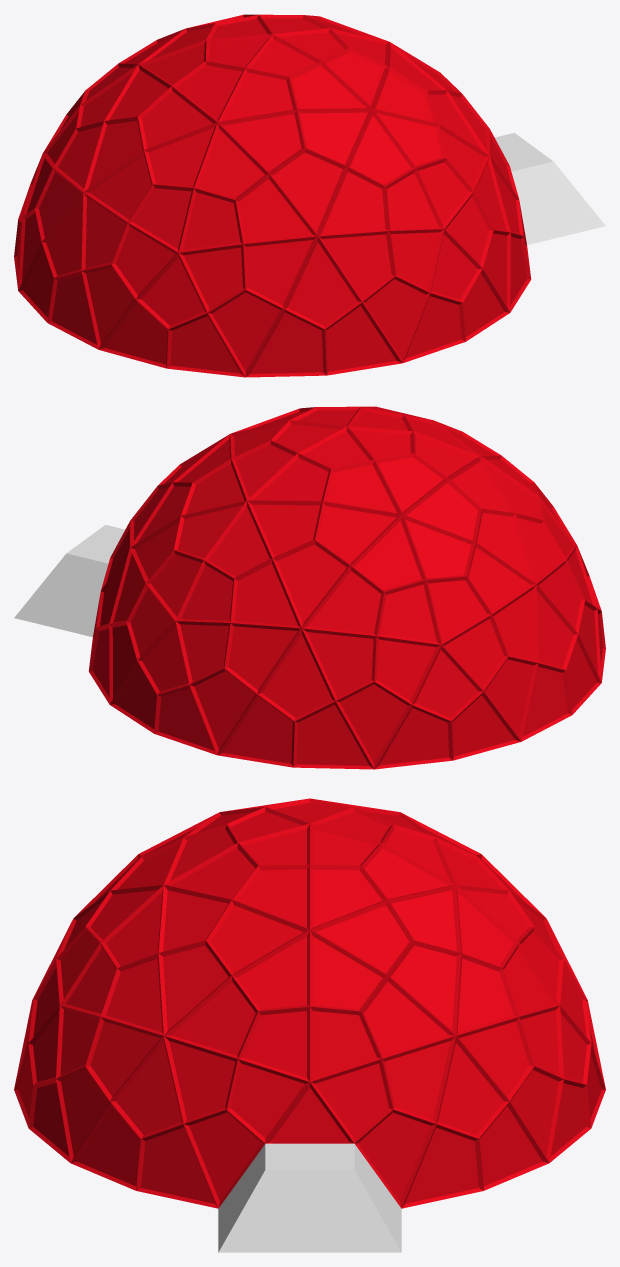
Rendered from moonBase_dont_delete_this_time_pls.fbx.
The picture shows the model from 3 angles, top to bottom: view 1: azimuth 30°, elevation 25°; view 2: azimuth 150°, elevation 25°; view 3: azimuth 270°, elevation 25°; orthographic projection. The views are drawn at different scales.
Visible parts, largest first — view 1: Icosphere, Hatch; view 2: Icosphere, Hatch; view 3: Icosphere, Hatch.
Boxes of the visible parts, x1,y1,x2,y2 form: Icosphere: (14,14,531,377); Hatch: (495,133,605,245); Icosphere: (88,406,605,769); Hatch: (14,525,124,637); Icosphere: (14,798,605,1208); Hatch: (218,1143,401,1252).
Size of the model in its own units: 1341 by 580 by 1166.
